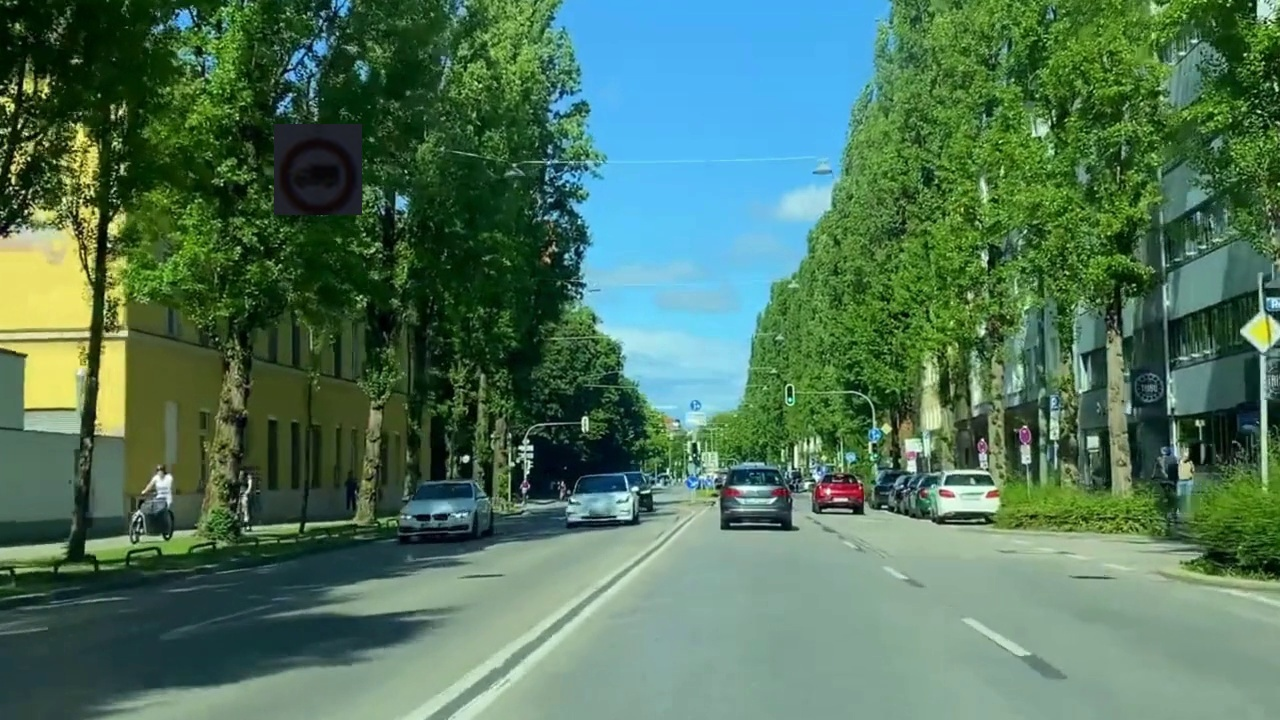Veh >3.5t prohib: (274, 124, 362, 215)
